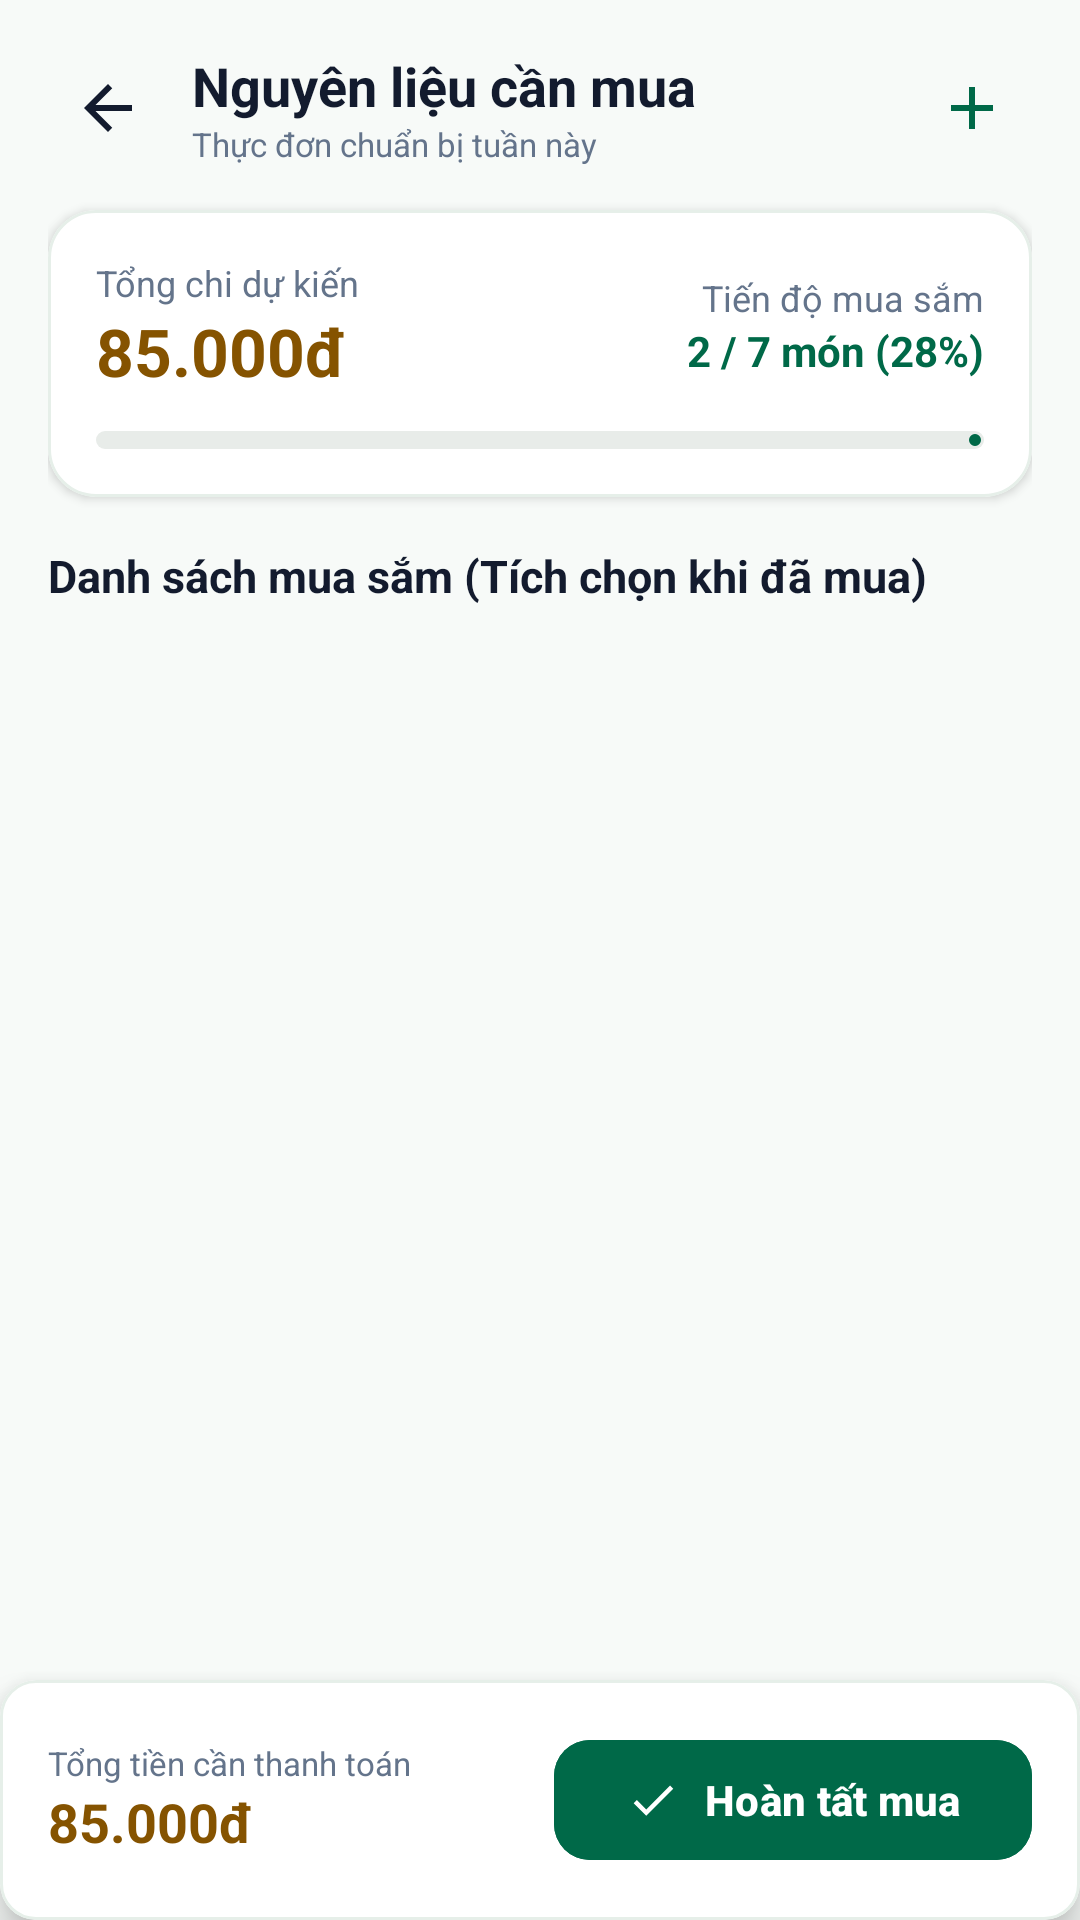

Icon bounding boxes for this 1080×1920 phone screenshot, format {"left": x1, "top": y1, "right": x2, "bottom": y2}:
Quay lại: {"left": 84, "top": 84, "right": 132, "bottom": 132}
Thêm món: {"left": 951, "top": 87, "right": 993, "bottom": 129}
